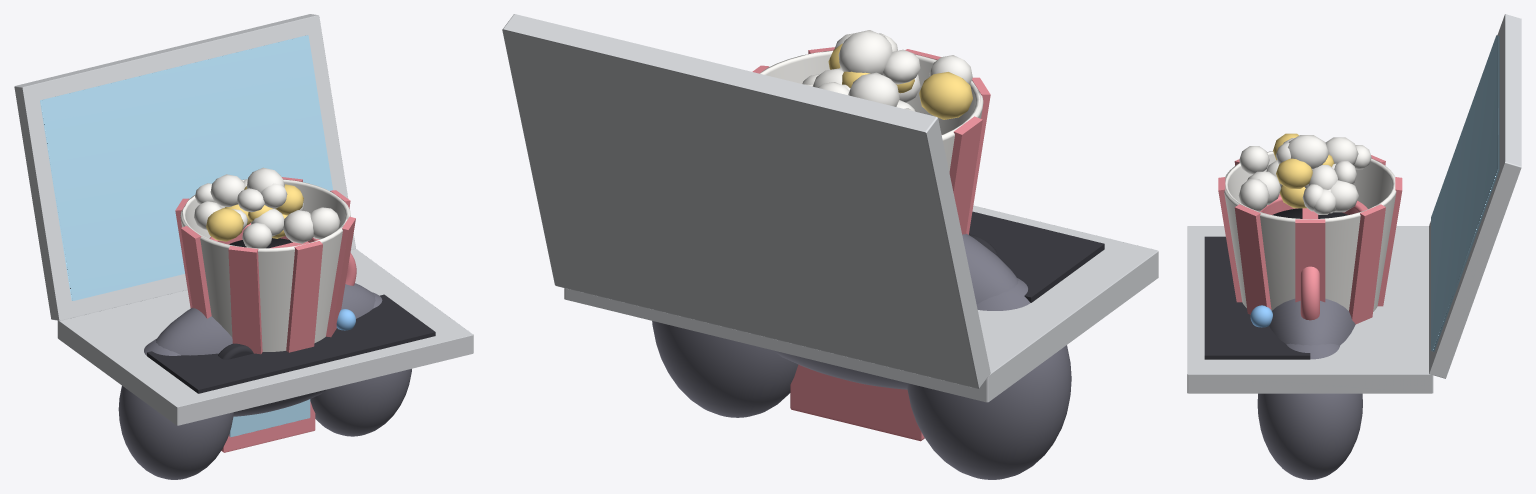
The model's file is props.glb.
3 renders of one model, left to right at view 1: azimuth 30°, elevation 25°; view 2: azimuth 150°, elevation 25°; view 3: azimuth 270°, elevation 25°, orthographic. The views are drawn at different scales.
Parts seen in each view (by area): view 1: Cube.003, Cube, Cube.002, Cone, Cube.001, Sphere.001, Sphere.002, Sphere, Cube.014, Cube.015, Cube.013, Cube.004 (+12 smaller); view 2: Cube.002, Cube, Sphere.001, Sphere.002, Cube.001, Cube.004, Sphere, Cone, Cube.013, Icosphere.015, Icosphere.019, Icosphere.018 (+3 smaller); view 3: Cube, Cube.003, Cone, Cube.002, Sphere.002, Cube.001, Sphere, Cube.010, Cube.016, Cube.009, Torus, Icosphere.019 (+16 smaller).
Part boxes in pixels (box(x1,y1,x2,y2)): Cube.003: box(40, 35, 332, 300); Cube: box(57, 249, 473, 425); Cube.002: box(14, 14, 355, 320); Cone: box(180, 179, 350, 351); Cube.001: box(147, 294, 435, 393); Sphere.001: box(118, 339, 233, 479); Sphere.002: box(310, 292, 411, 436); Sphere: box(156, 283, 375, 416); Cube.014: box(228, 245, 262, 354); Cube.015: box(286, 241, 322, 352); Cube.013: box(180, 226, 211, 318); Cube.004: box(221, 241, 315, 452); Cube.002: box(502, 14, 990, 388); Cube: box(564, 205, 1158, 402); Sphere.001: box(907, 278, 1071, 479); Sphere.002: box(652, 321, 798, 417); Cube.001: box(969, 211, 1104, 302); Cube.004: box(790, 364, 924, 441); Sphere: box(773, 233, 1018, 389); Cone: box(760, 50, 983, 172); Cube.013: box(949, 116, 982, 234); Icosphere.015: box(919, 72, 972, 119); Icosphere.019: box(838, 30, 892, 74); Icosphere.018: box(848, 72, 899, 106); Cube: box(1187, 226, 1433, 393); Cube.003: box(1431, 35, 1499, 351); Cone: box(1224, 151, 1396, 311); Cube.002: box(1429, 14, 1521, 378); Sphere.002: box(1257, 343, 1362, 479); Cube.001: box(1204, 236, 1310, 359); Sphere: box(1269, 298, 1355, 345); Cube.010: box(1349, 204, 1385, 324); Cube.016: box(1234, 204, 1271, 314); Cube.009: box(1295, 219, 1325, 302); Torus: box(1300, 266, 1319, 320); Icosphere.019: box(1288, 135, 1329, 169).
Size of the model in its own units: 0.4 by 0.4303 by 0.3805.
